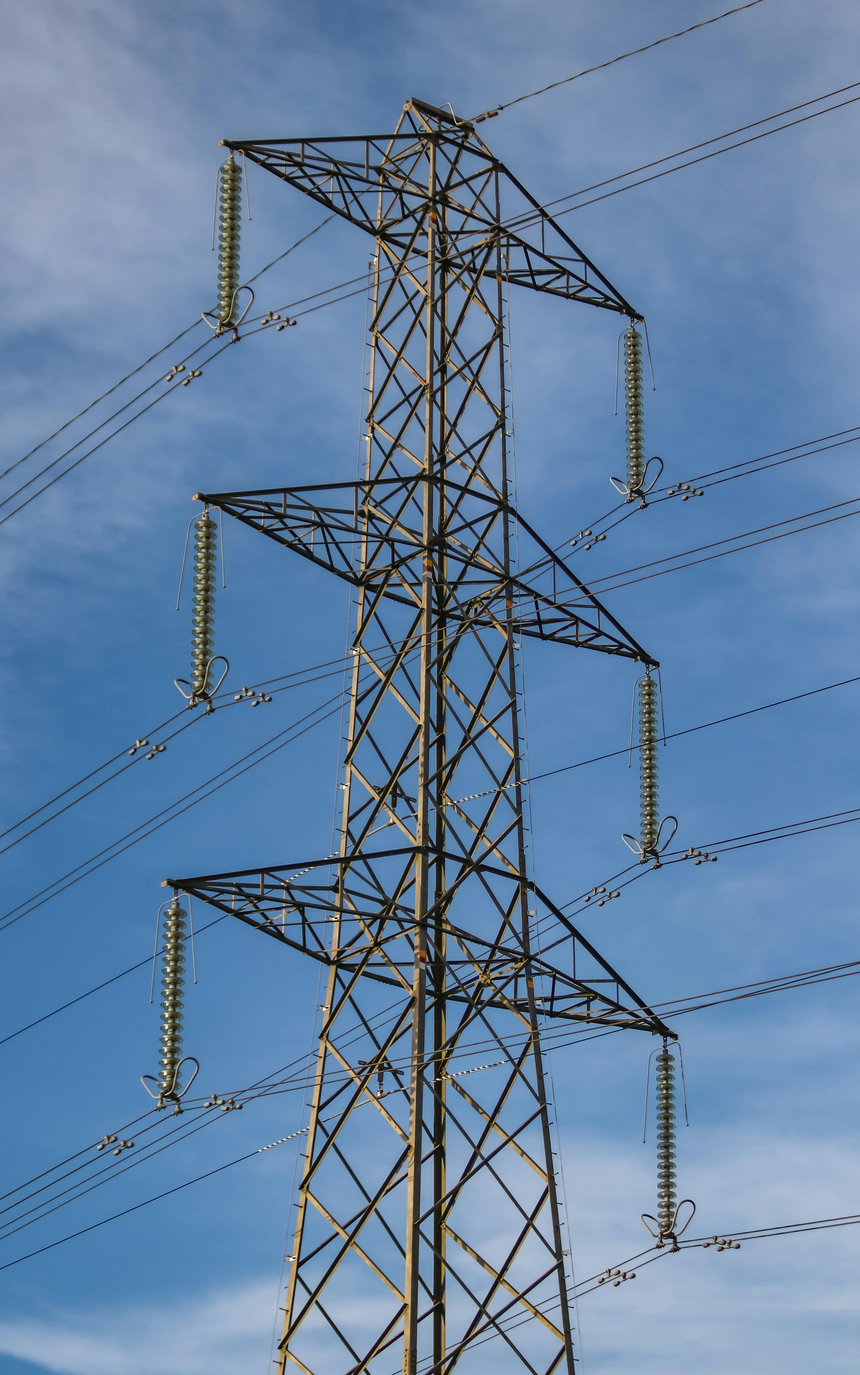insulator: (615, 661, 684, 871), (637, 1033, 701, 1252), (146, 883, 203, 1106), (181, 504, 233, 706), (610, 316, 665, 500), (207, 148, 258, 346)
